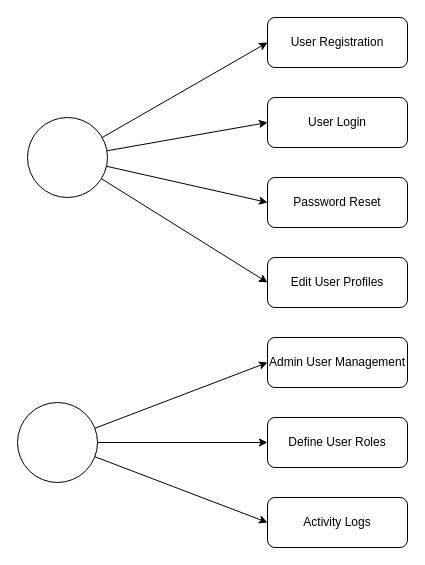
Some shapes in this 425 by 565 pixel diagram are drawn without their labels. The centre of each missing label's shape, as x and y in pixels:
"Admin" belongs at point 57,442.
"User" belongs at point 67,157.
